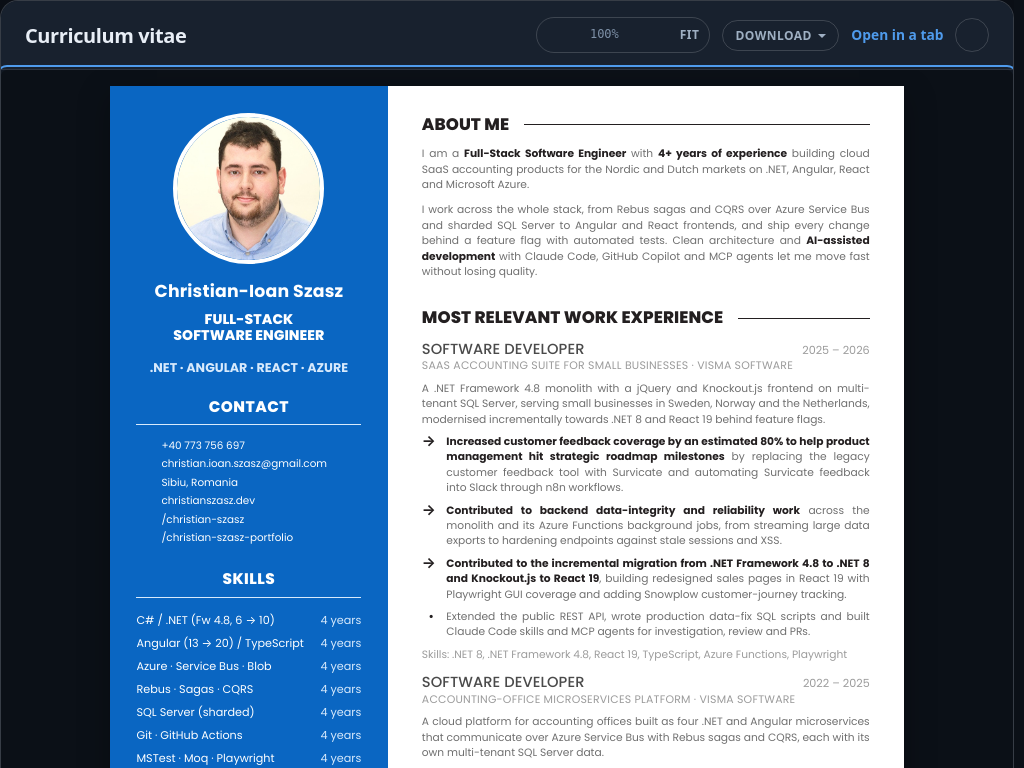
Test: CvViewerComponent › the download menu › says so rather than failing silently when the render breaks
Click the button with class "download__trigger" at (781, 36), box [722, 20, 839, 52]
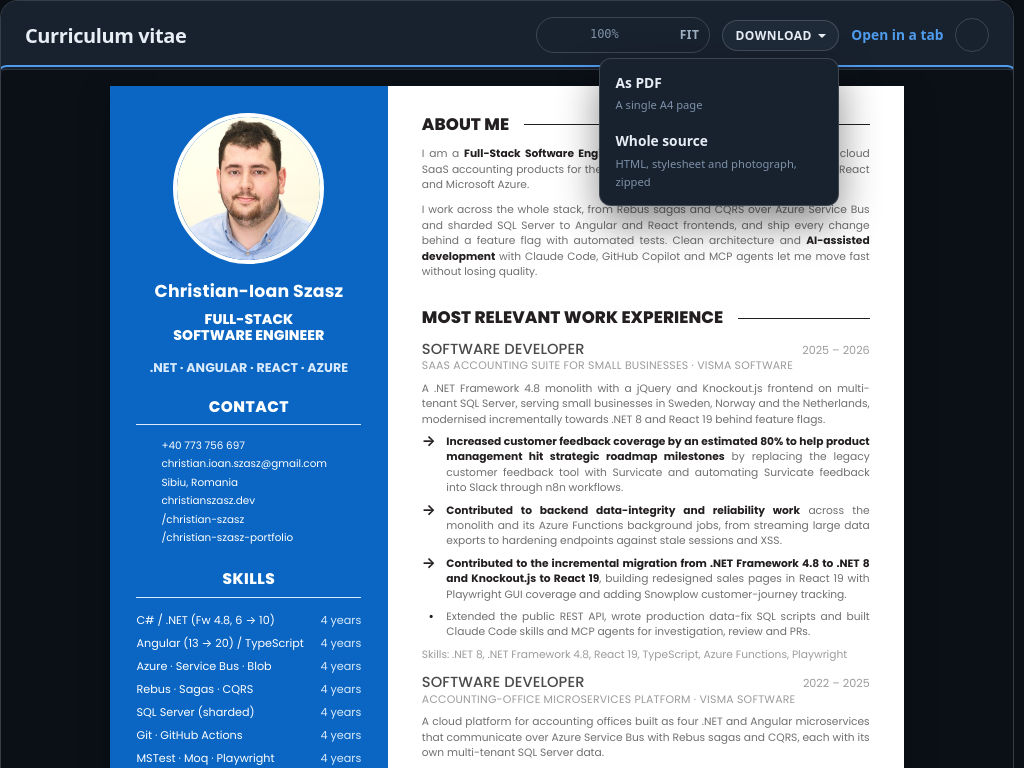
Click the menu item "As PDF A single A4 page" at (719, 93), box [605, 64, 834, 122]
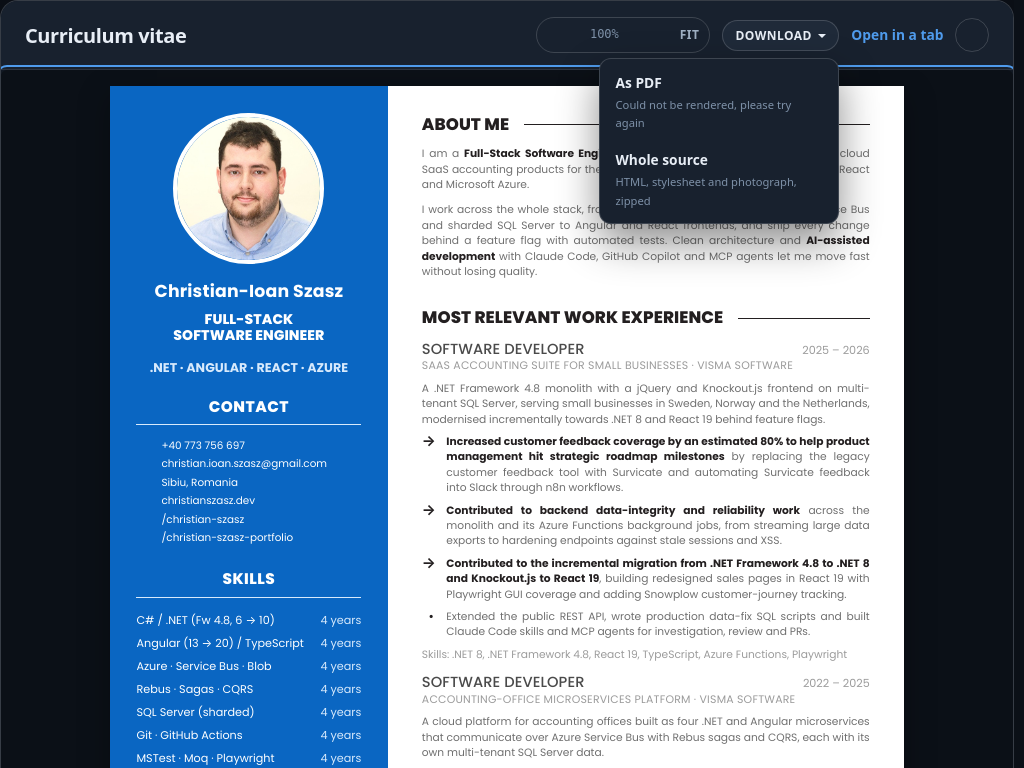
Check: the menu with class "download__menu" shows "Could not be rendered", box [605, 64, 834, 141]
